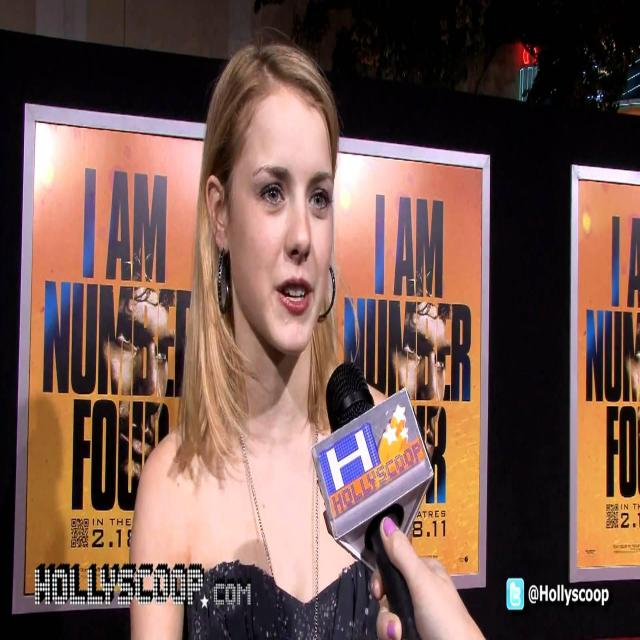no-earmuff: (204, 174, 229, 254)
